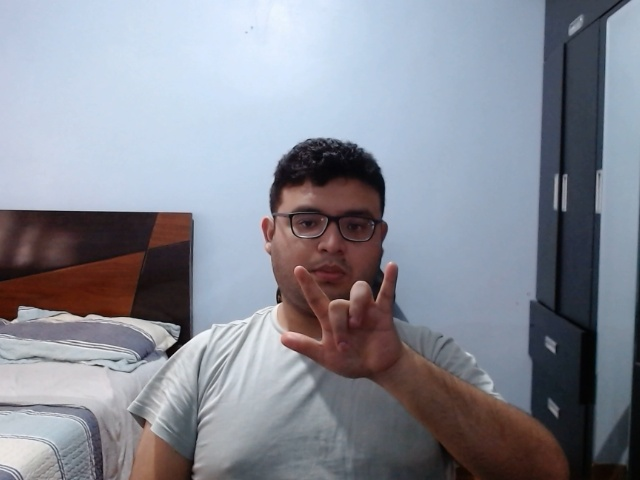I love you: (275, 260, 412, 387)
